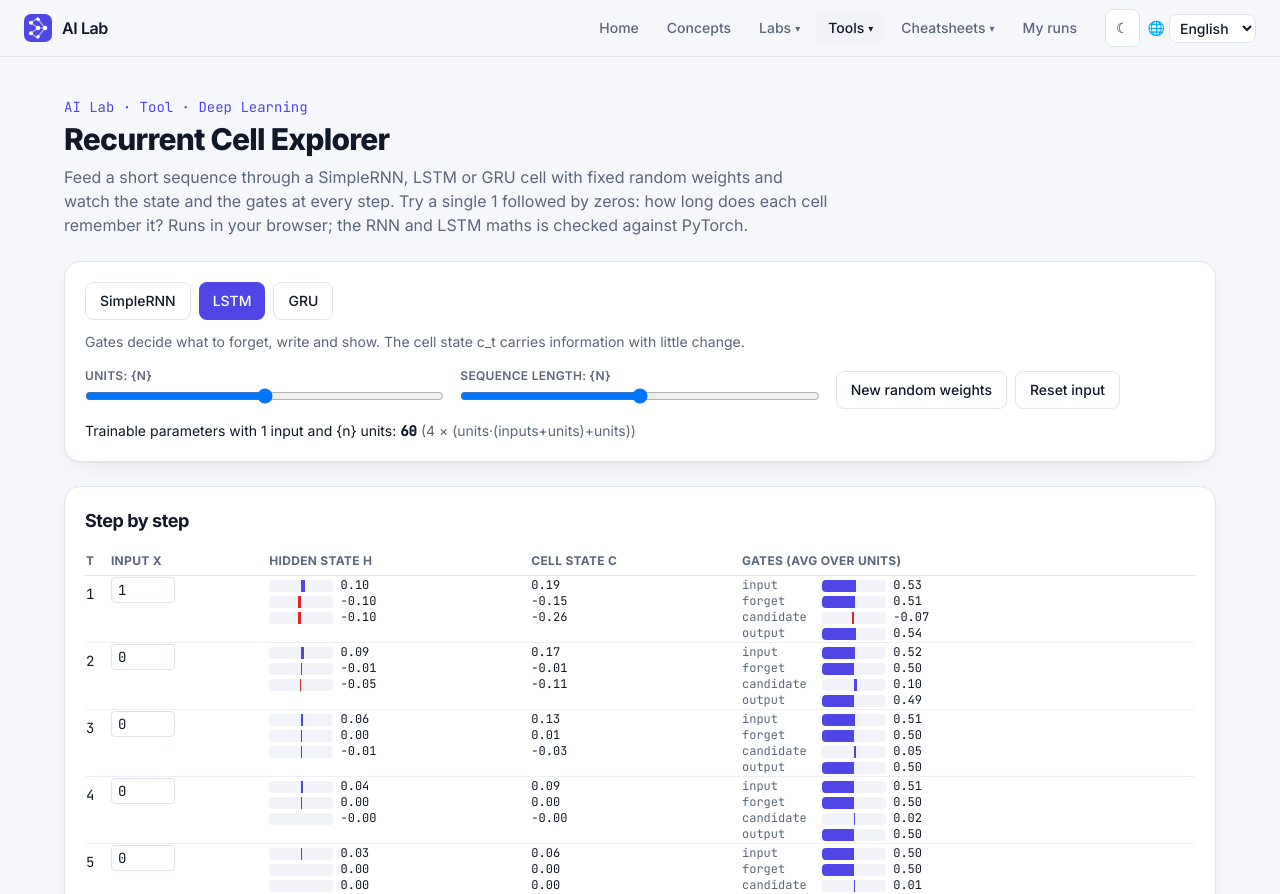
Test: explorer pages › recurrent explorer switches cell type and updates parameter counts
expect the heading "Recurrent Cell Explorer" is shown: met, box [64,121,389,157]
expect the element with test id "param-count" shows "60": met, box [400,422,417,440]
Step 1. Click the tab "SimpleRNN" → (138,301), box [85,282,191,320]
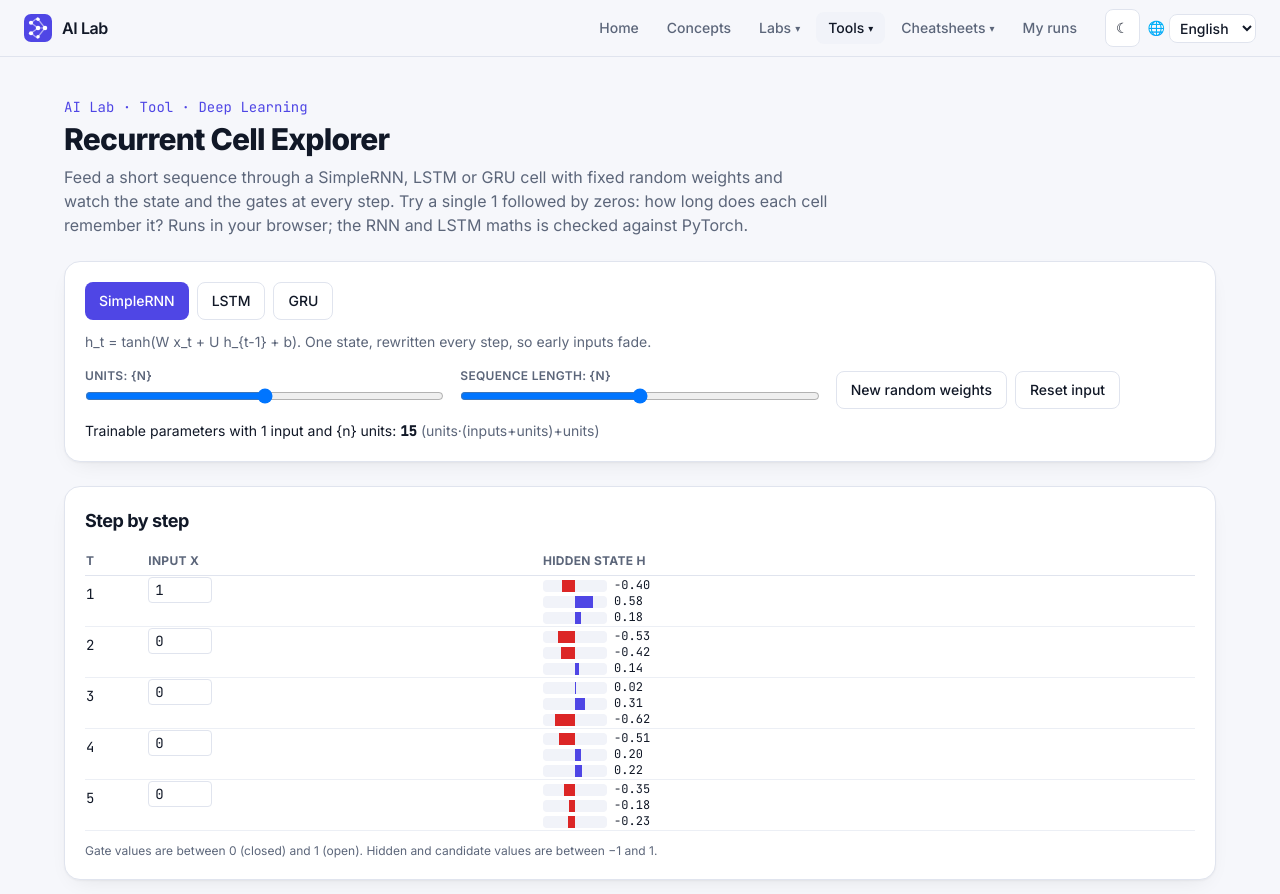
expect the element with test id "param-count" shows "15": met, box [400,422,417,440]
Step 2. Click the tab "GRU" → (303,301), box [274,282,333,320]
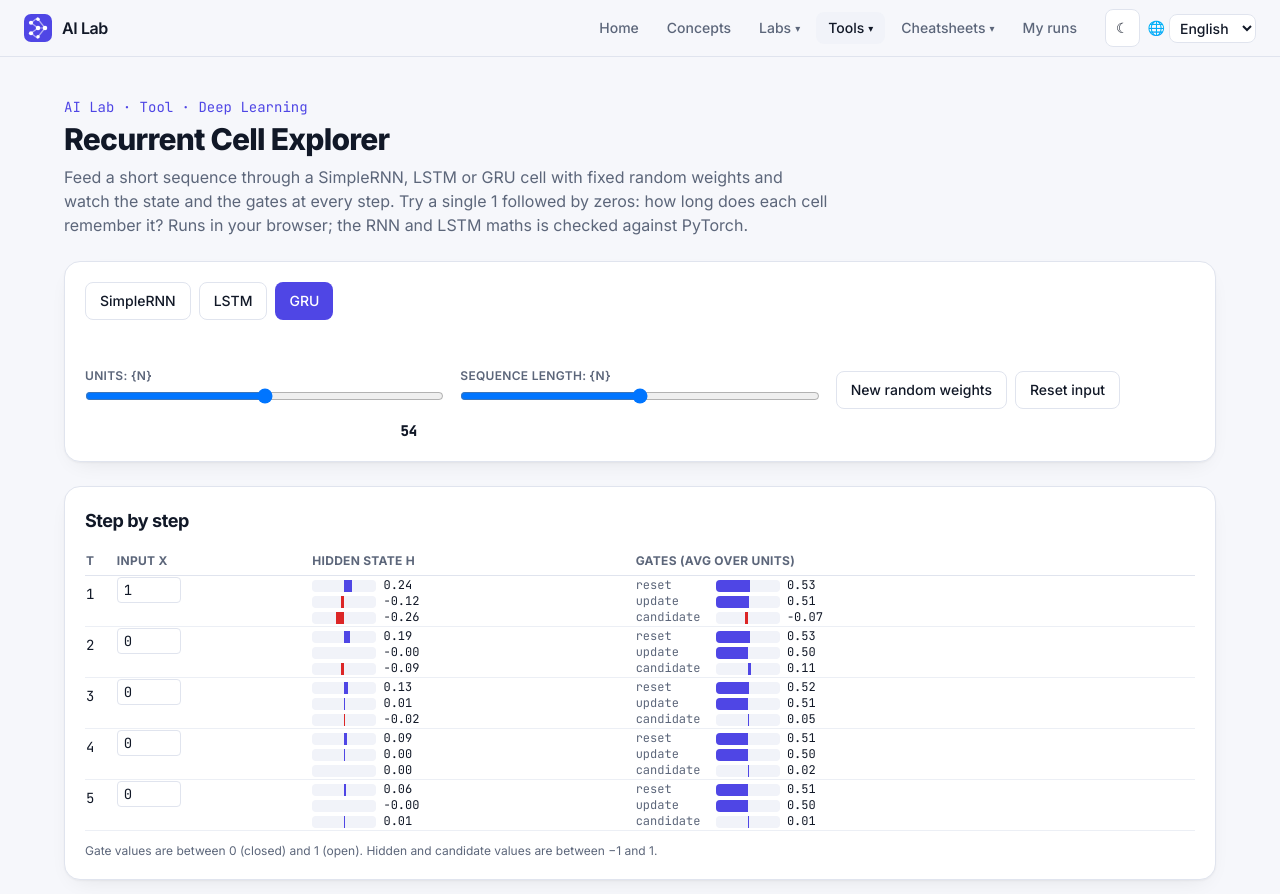
expect the number of number fields named "Input at step" is 5: met, box [117,577,181,603]; [117,628,181,654]; [117,679,181,705]; [117,730,181,756]; [117,781,181,807]
expect the element with test id "param-count" shows "54": met, box [400,422,417,440]
